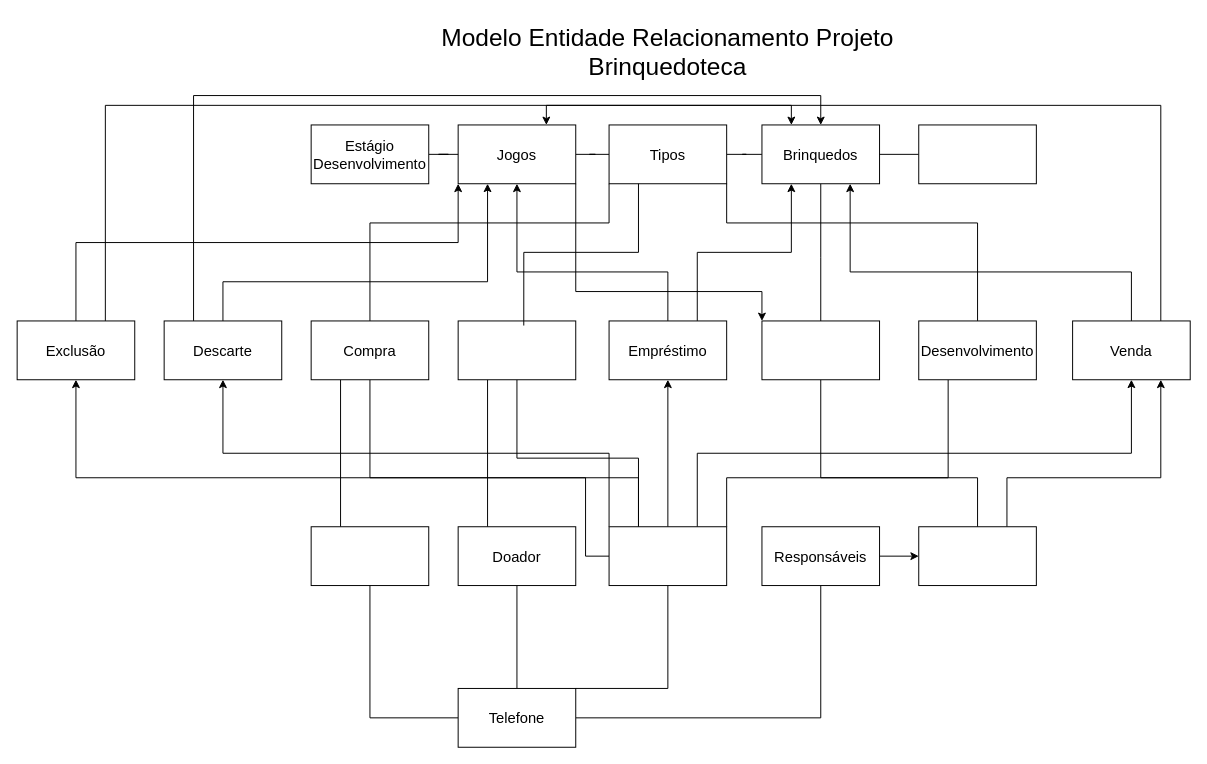
Some shapes in this 1207 by 764 pixel diagram are drawn without their labels. Here are the shapes that lost their labels. From the top down, the centre of each, then its label:
At pixel 977 154: "Área de Desenvolvimento".
At pixel 516 350: "Doação".
At pixel 820 350: "Devolução".
At pixel 369 556: "Fornecedor".
At pixel 667 556: "Funcionários".
At pixel 977 556: "Crianças".
